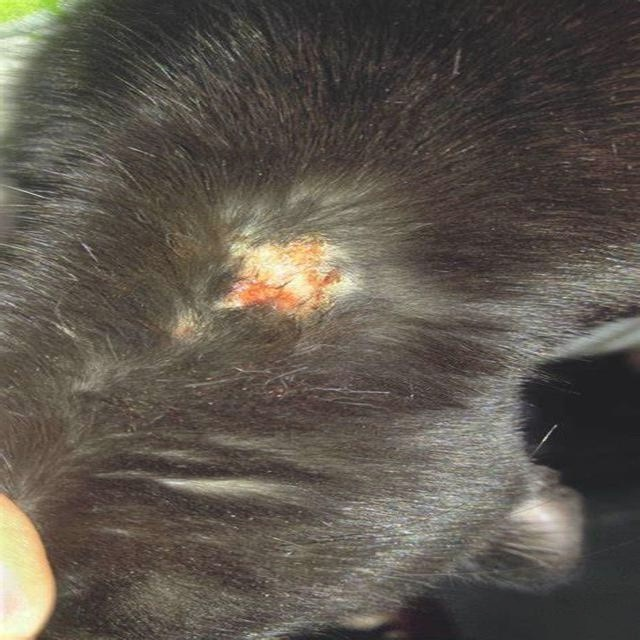ringworm: (235, 239, 350, 335)
